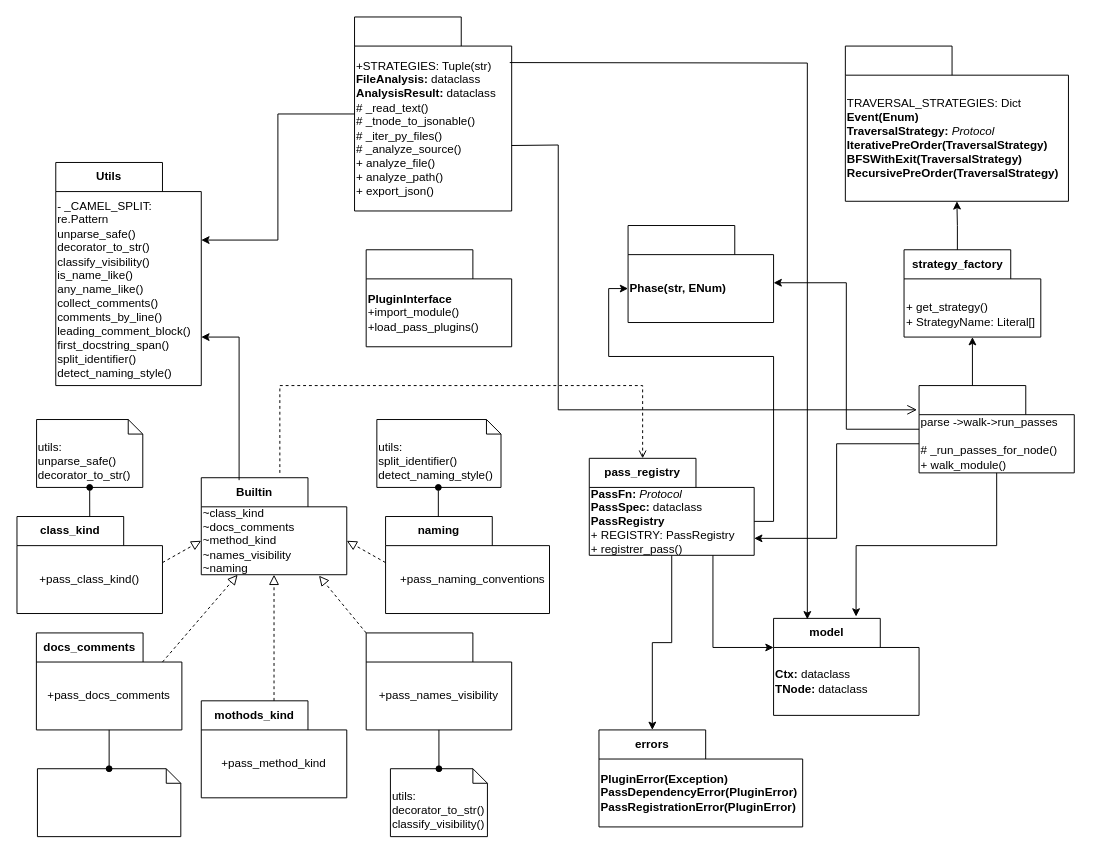
This 1095x854 diagram has some shape labels left out. The centre of each missing label's shape, as x and y in pixels:
"Loader" goes at [438,298].
"names_visibility" goes at [438,681].
"phase" goes at [700,274].
"Service" goes at [433,113].
"traversal" goes at [956,123].
"utils: leading_comment_block() first_docstring_span()" goes at [108,802].
"walker" goes at [996,429].
